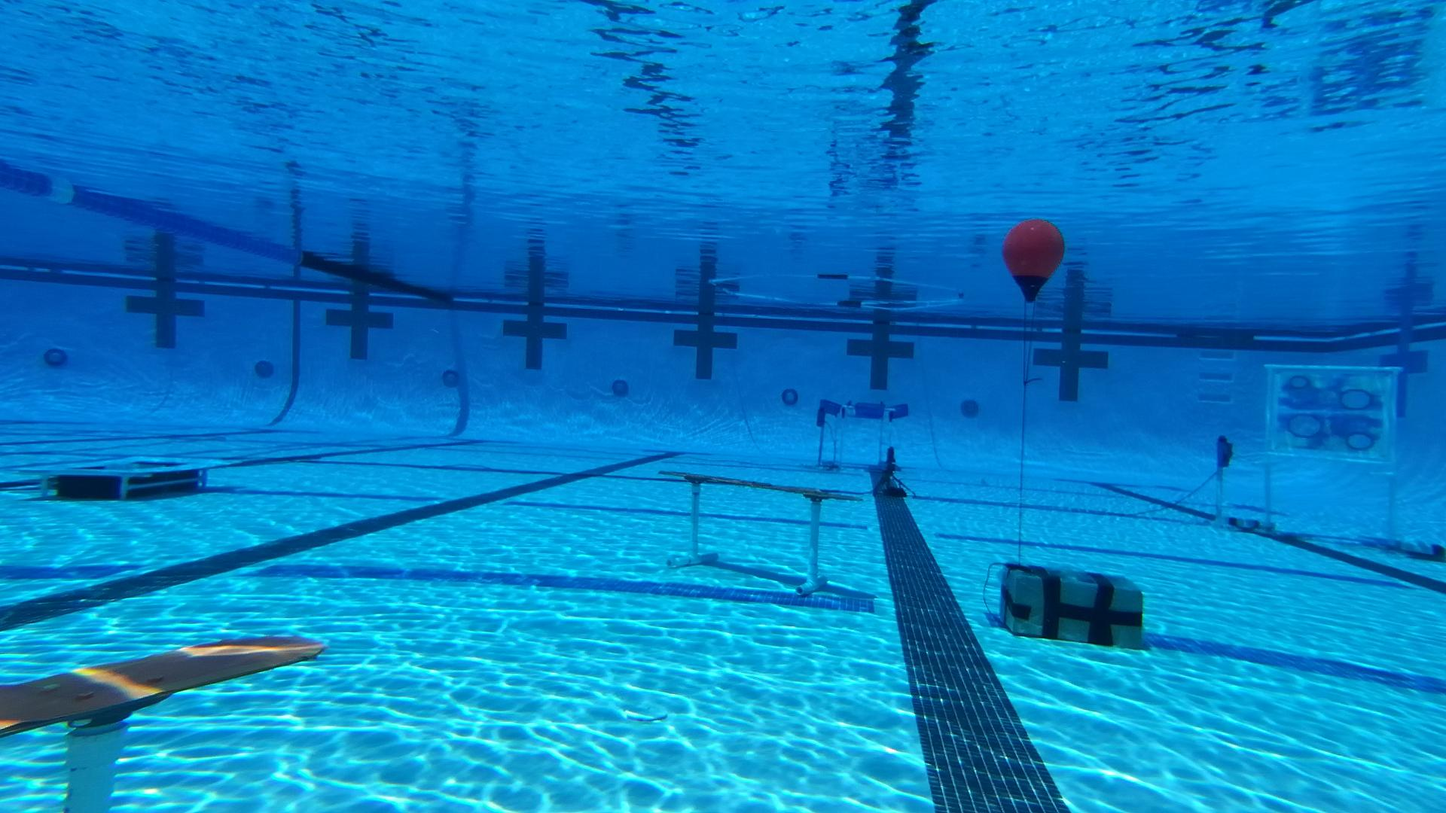buoy: (1000, 215, 1066, 303)
coral-box-side: (816, 396, 911, 471)
dropper-box-side: (40, 449, 205, 499)
path: (0, 628, 330, 813), (655, 459, 871, 607)
red octagon: (1288, 416, 1326, 437), (1339, 389, 1376, 409), (1344, 434, 1376, 452), (1290, 375, 1309, 391)
